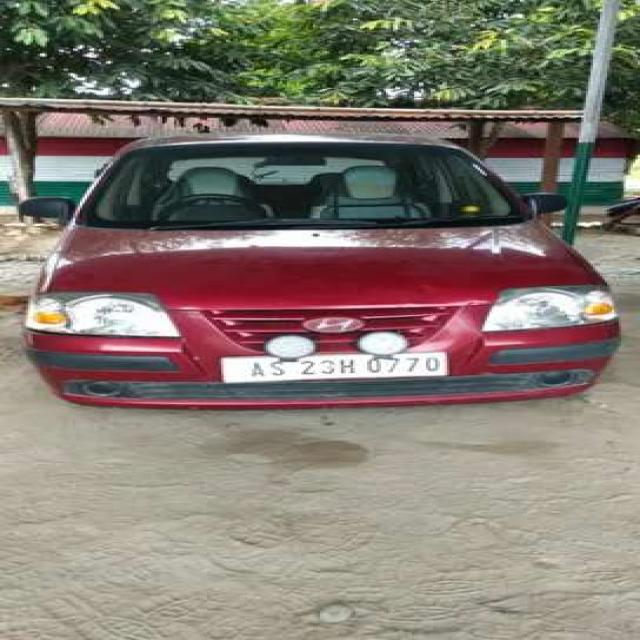plate: (214, 353, 456, 386)
